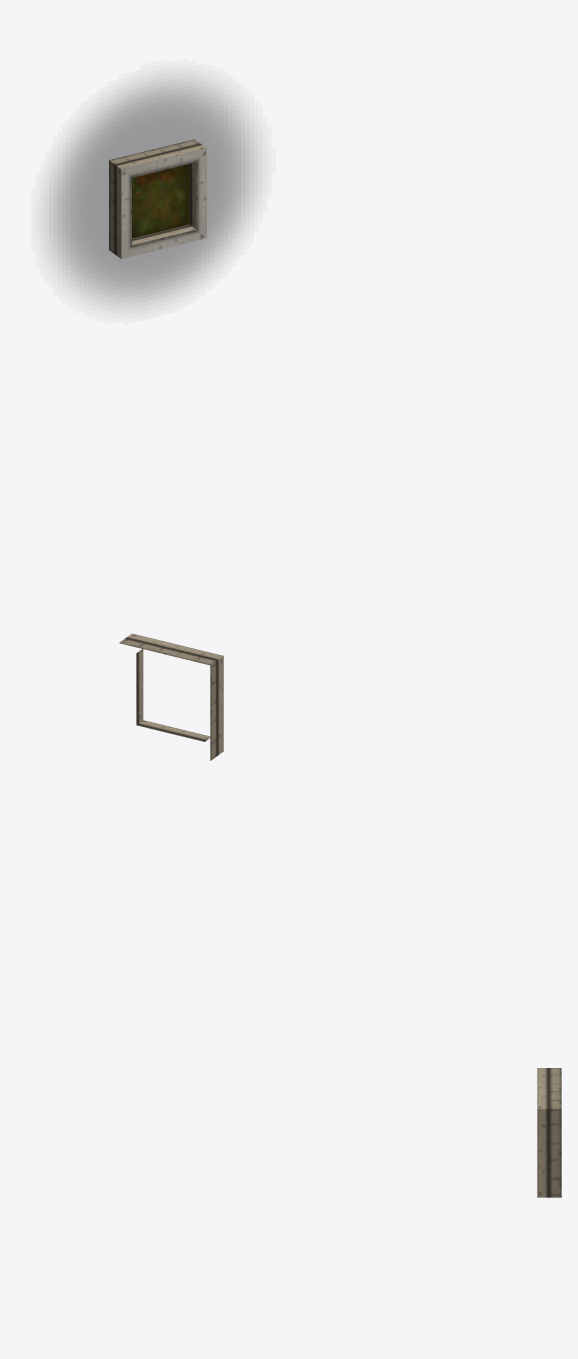
The model's file is prop_tree_large_brickbox_ul.glb.
3 views of the same model, one above another, from view 1: azimuth 30°, elevation 25°; view 2: azimuth 150°, elevation 25°; view 3: azimuth 270°, elevation 25° (orthographic). The views are drawn at different scales.
Visible parts, largest first — view 1: shadow_large_brickbox_ul, box_drit; view 2: box_drit; view 3: box_drit.
Boxes of the visible parts, x1,y1,x2,y2 form: shadow_large_brickbox_ul: (49, 79, 253, 305); box_drit: (109, 139, 206, 258); box_drit: (119, 633, 223, 760); box_drit: (537, 1068, 561, 1197).
Size of the model in its own units: 16.89 by 16.89 by 29.25.
5 materials, 5 textured.
